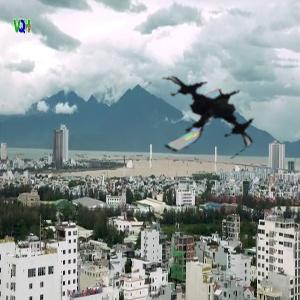drone: (142, 61, 257, 176)
